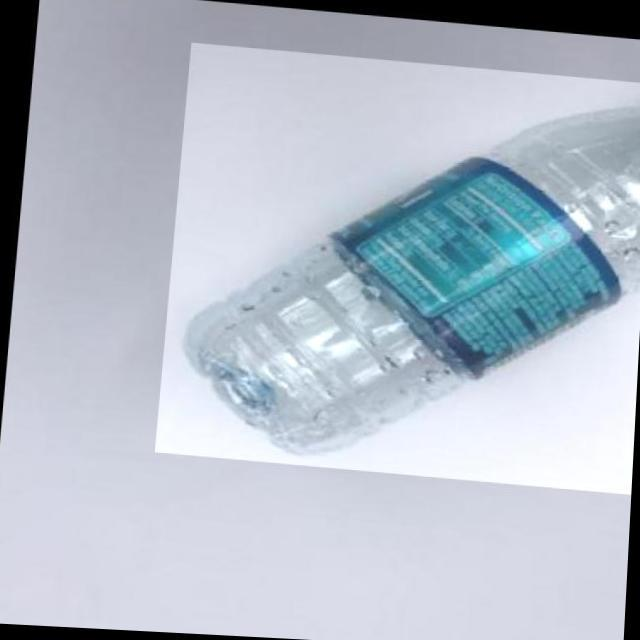good: (152, 40, 639, 489)
